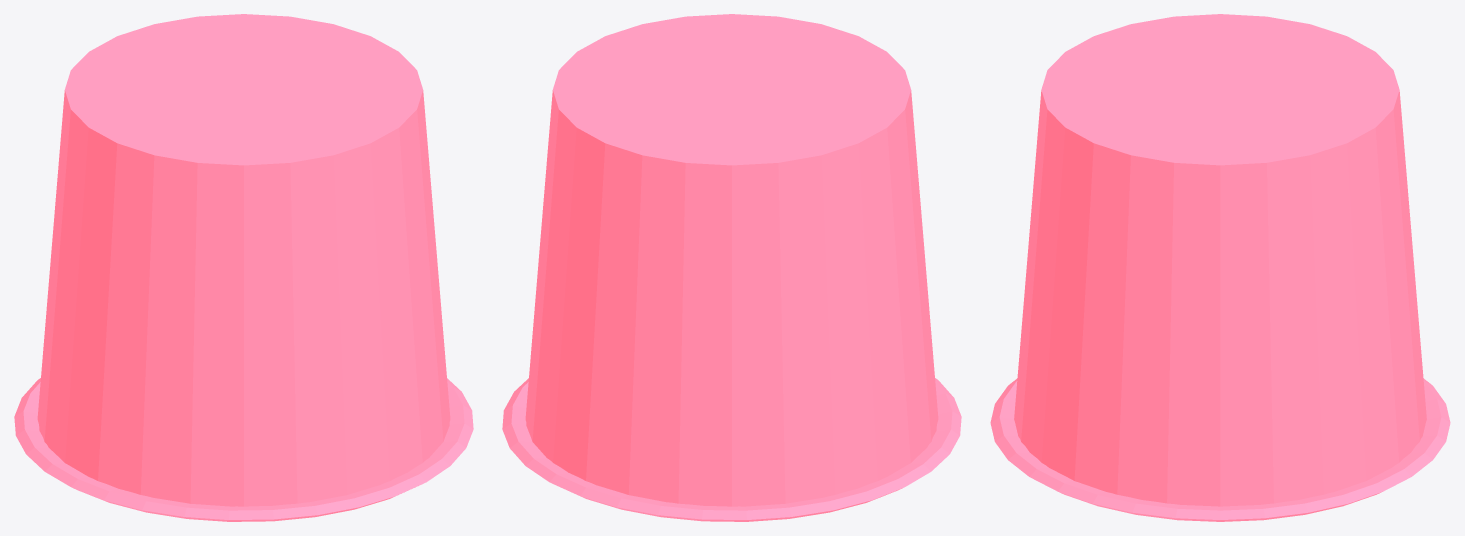
File: marker_dropoff.glb
3 views of the same model, side by side, from view 1: azimuth 30°, elevation 25°; view 2: azimuth 150°, elevation 25°; view 3: azimuth 270°, elevation 25° (orthographic).
Parts seen in each view (by area): view 1: marker_dropoff; view 2: marker_dropoff; view 3: marker_dropoff.
Boxes of the visible parts, x1,y1,x2,y2 form: marker_dropoff: [14, 14, 473, 521]; marker_dropoff: [502, 14, 961, 521]; marker_dropoff: [990, 14, 1450, 521].
Bounding box in the file's own units: 4.88 × 4 × 4.88.
